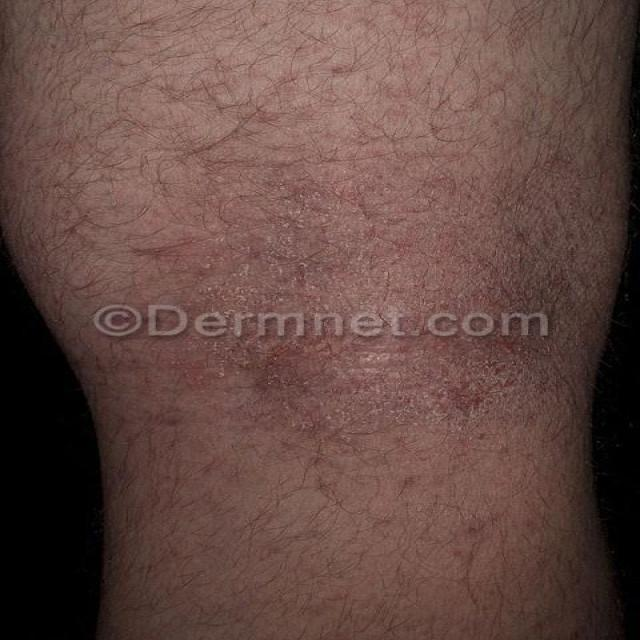Eczema: (141, 103, 562, 495)
